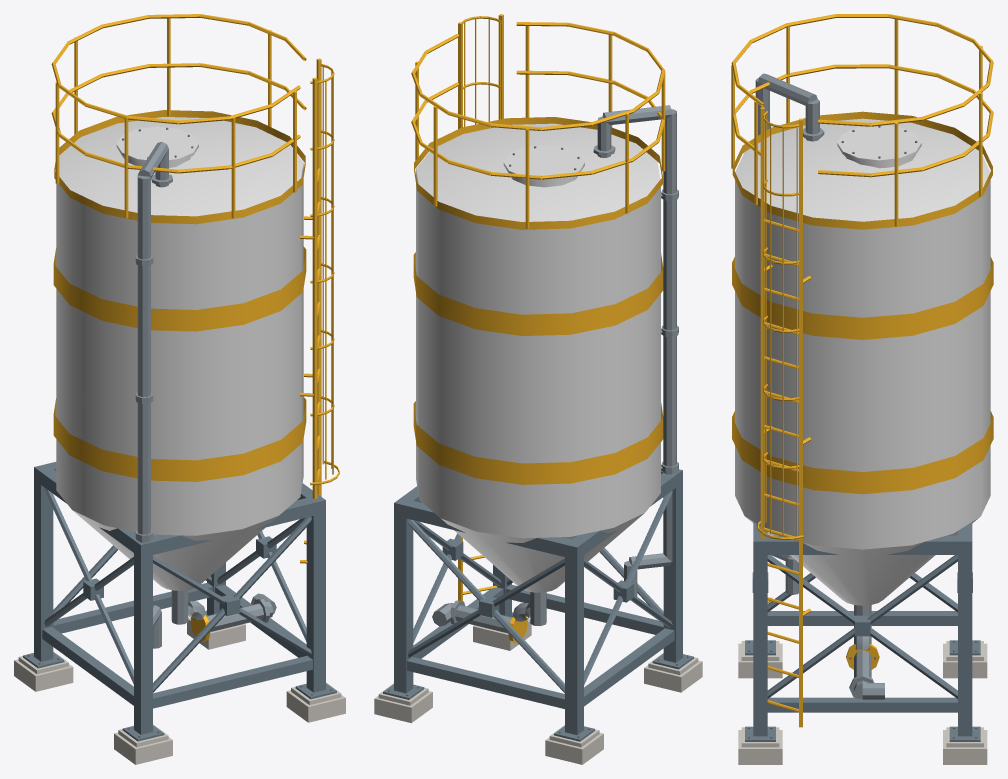
The model's file is silo.fbx.
3 renders of one model, left to right at view 1: azimuth 30°, elevation 25°; view 2: azimuth 150°, elevation 25°; view 3: azimuth 270°, elevation 25°, orthographic. The views are drawn at different scales.
Visible parts, largest first — view 1: Industrial_Tank_Silo; view 2: Industrial_Tank_Silo; view 3: Industrial_Tank_Silo.
Part boxes in pixels (box(x1,y1,x2,y2)): Industrial_Tank_Silo: box(14, 14, 345, 764); Industrial_Tank_Silo: box(374, 14, 702, 764); Industrial_Tank_Silo: box(731, 14, 993, 764).
Bounding box in the file's own units: 244 × 642 × 236.
